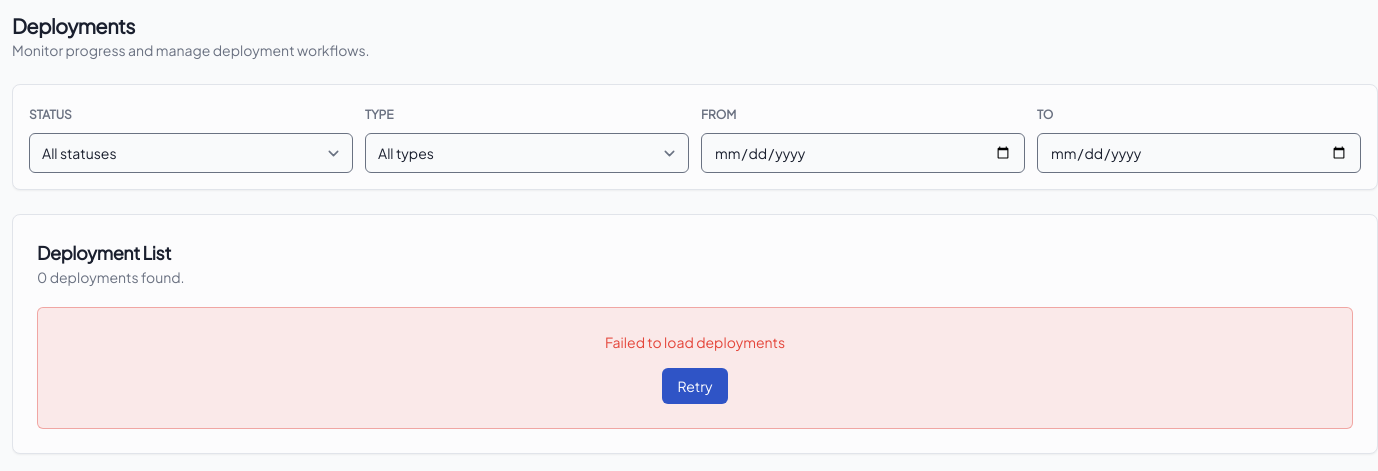
DeploymentList › shows an error state with retry when the fetch fails
Click the button with test id "deployment-list-retry": (695, 386) [662, 368, 728, 404]
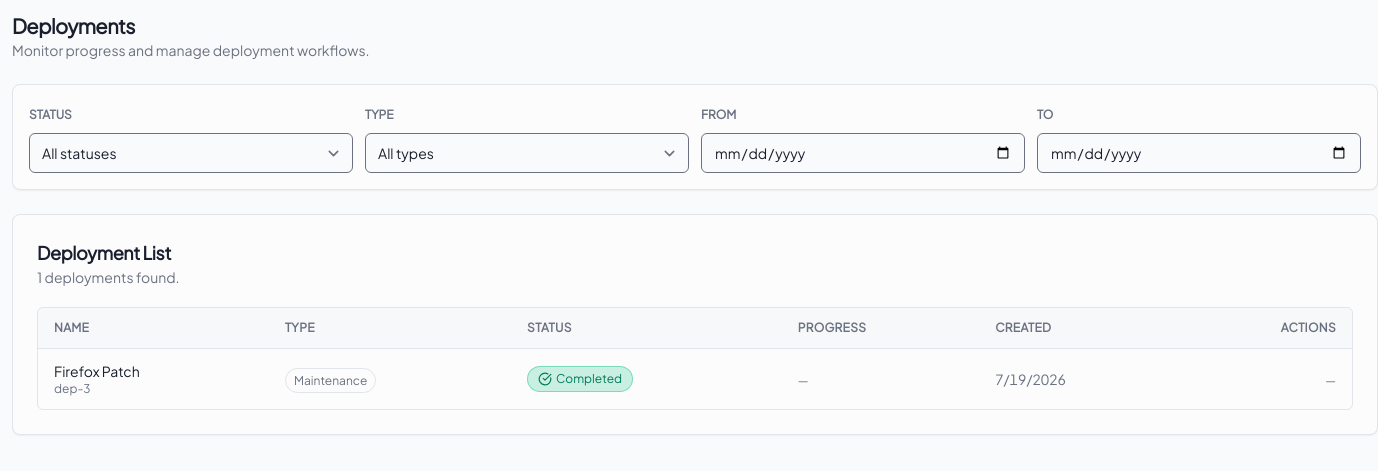
Expected: the text "Firefox Patch" is shown, [54, 362, 140, 380]
